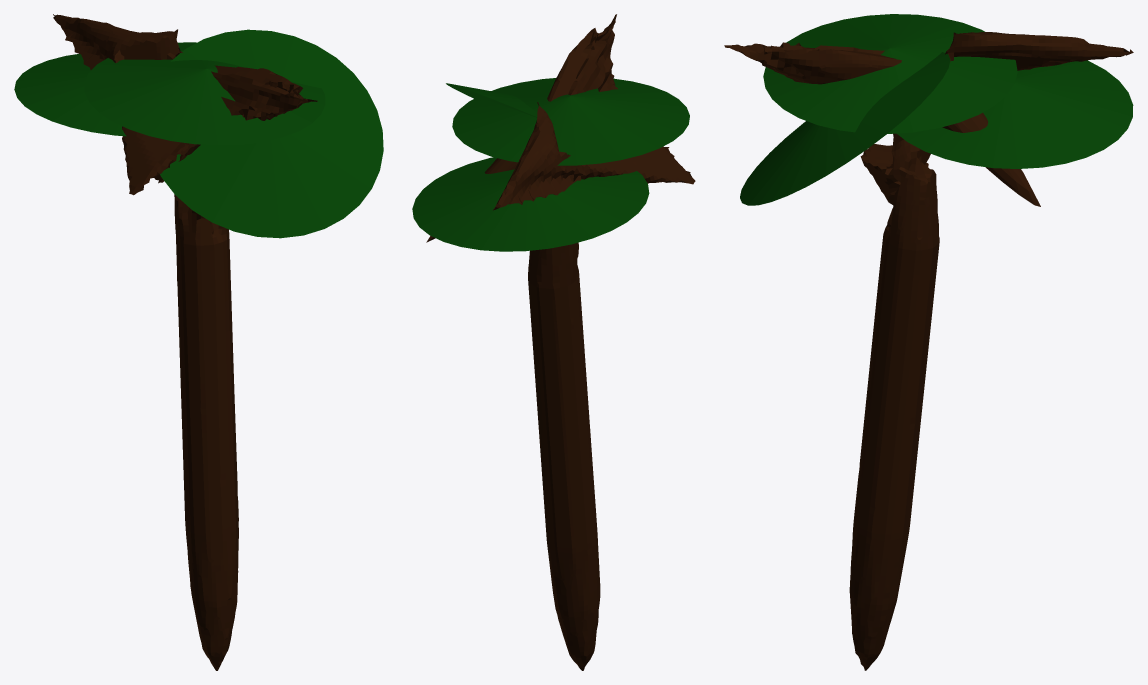
File: tree.glb
3 renders of one model, left to right at view 1: azimuth 30°, elevation 25°; view 2: azimuth 150°, elevation 25°; view 3: azimuth 270°, elevation 25°, orthographic. The views are drawn at different scales.
Visible parts, largest first — view 1: Icosphere.001, Cone.004, Cone.005, Cone.003; view 2: Icosphere.001, Cone.003, Cone.005, Cone.004; view 3: Icosphere.001, Cone.005, Cone.003, Cone.004.
Boxes of the visible parts, <box> form: Icosphere.001: <box>53,14,317,670</box>; Cone.004: <box>160,29,383,238</box>; Cone.005: <box>84,42,325,145</box>; Cone.003: <box>14,54,126,136</box>; Icosphere.001: <box>426,14,695,670</box>; Cone.003: <box>412,157,649,251</box>; Cone.005: <box>452,78,689,165</box>; Cone.004: <box>446,83,555,124</box>; Icosphere.001: <box>724,32,1133,670</box>; Cone.005: <box>763,14,1017,133</box>; Cone.003: <box>897,60,1133,168</box>; Cone.004: <box>740,52,950,205</box>.
Size of the model in its own units: 3.12 by 7 by 4.05.
